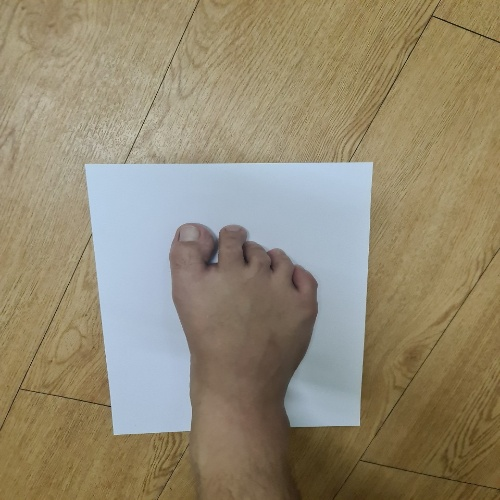Top_Foot: (69, 145, 383, 452)
